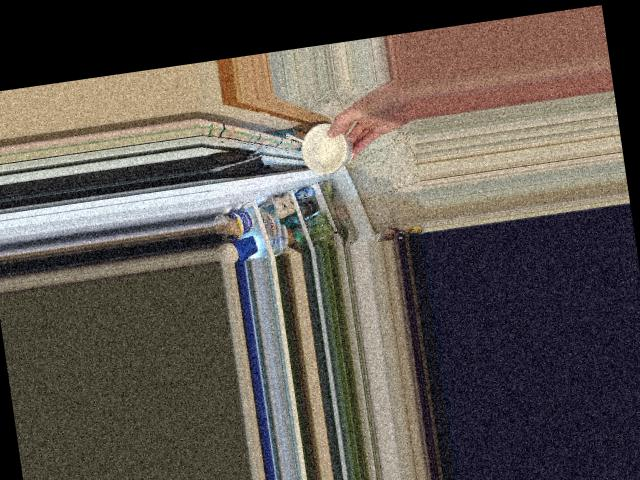cotage: (297, 125, 358, 176)
